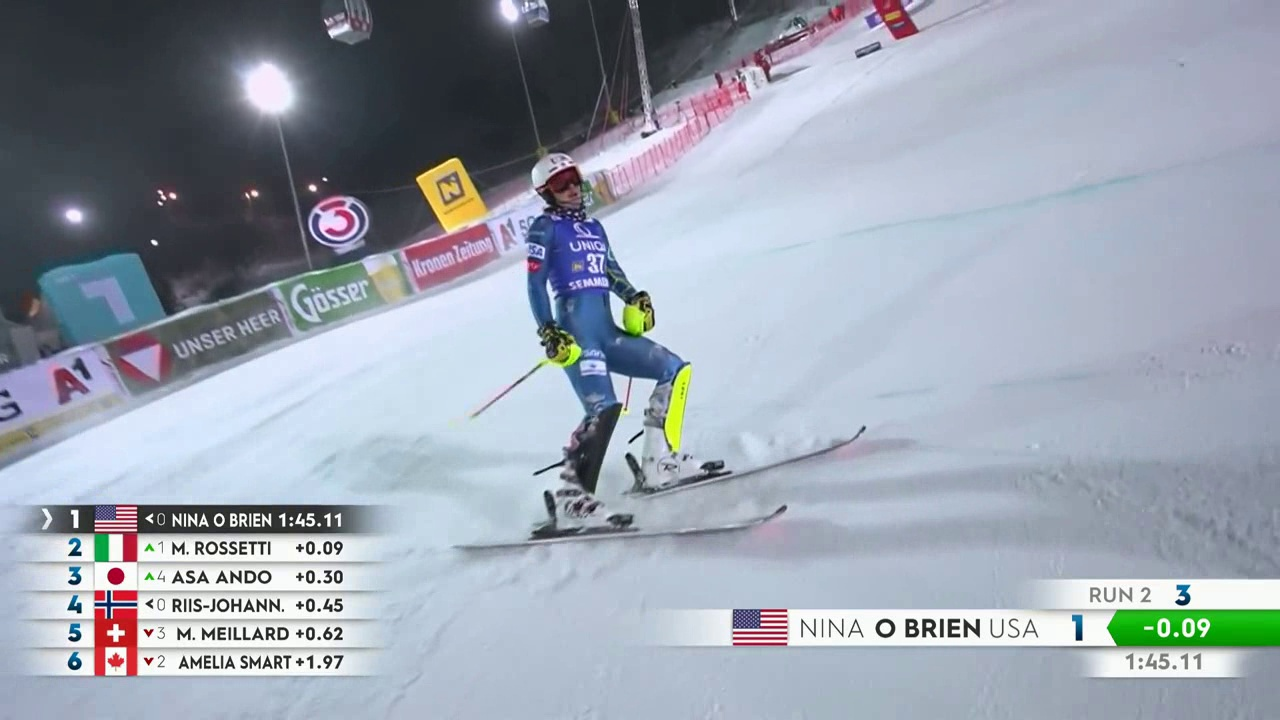a1: (46, 354, 101, 407)
goesser: (291, 277, 382, 327)
kronenzeitung: (414, 225, 489, 292)
unserheer: (132, 304, 287, 387)
